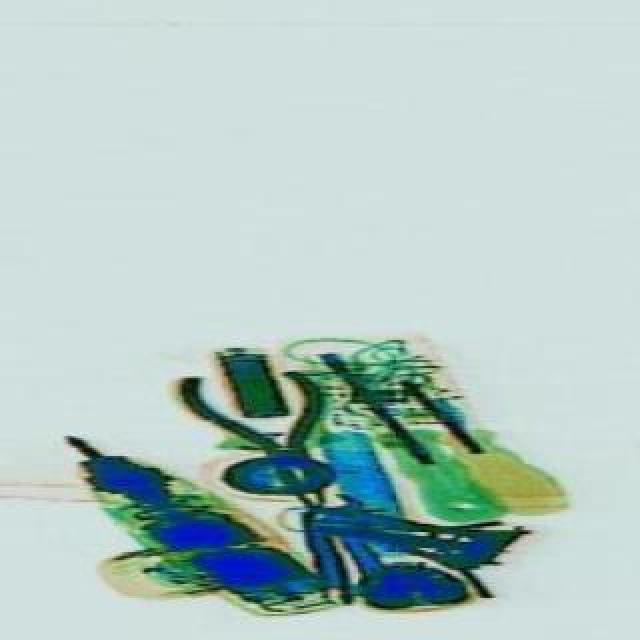scissors: (302, 486, 402, 602)
wrench: (164, 324, 368, 532)
